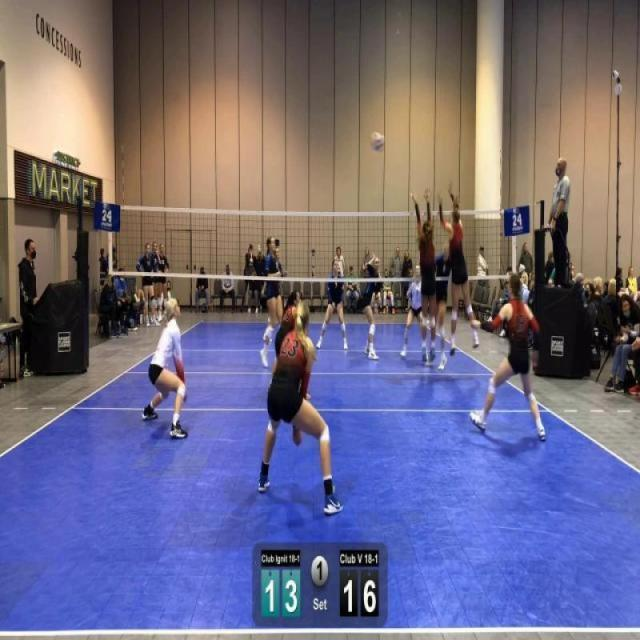volleyball: (369, 126, 387, 156)
